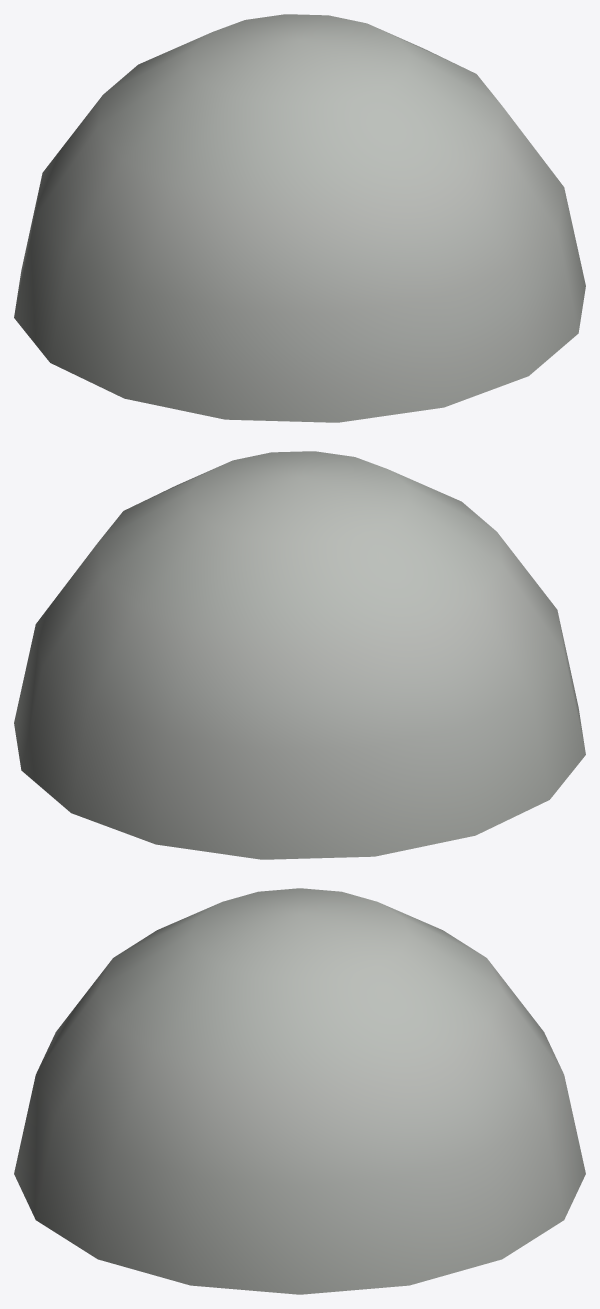
Rendered from Dome.fbx.
3 renders of one model, top to bottom at view 1: azimuth 30°, elevation 25°; view 2: azimuth 150°, elevation 25°; view 3: azimuth 270°, elevation 25°, orthographic.
Parts seen in each view (by area): view 1: Dome; view 2: Dome; view 3: Dome.
Part boxes in pixels (x1,y1,x2,y2): Dome: (14,14,585,422); Dome: (14,451,585,859); Dome: (14,888,585,1294).
Size of the model in its own units: 136 by 68.12 by 136.
